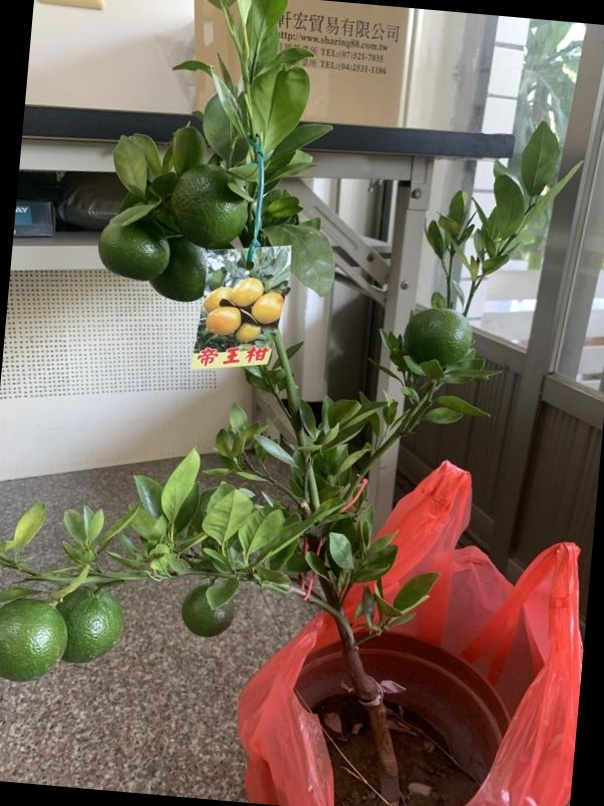Tangerine: (173, 162, 250, 247), (1, 600, 68, 680), (57, 587, 124, 662), (96, 216, 172, 281), (405, 306, 477, 371), (178, 576, 238, 640), (153, 232, 203, 302)
